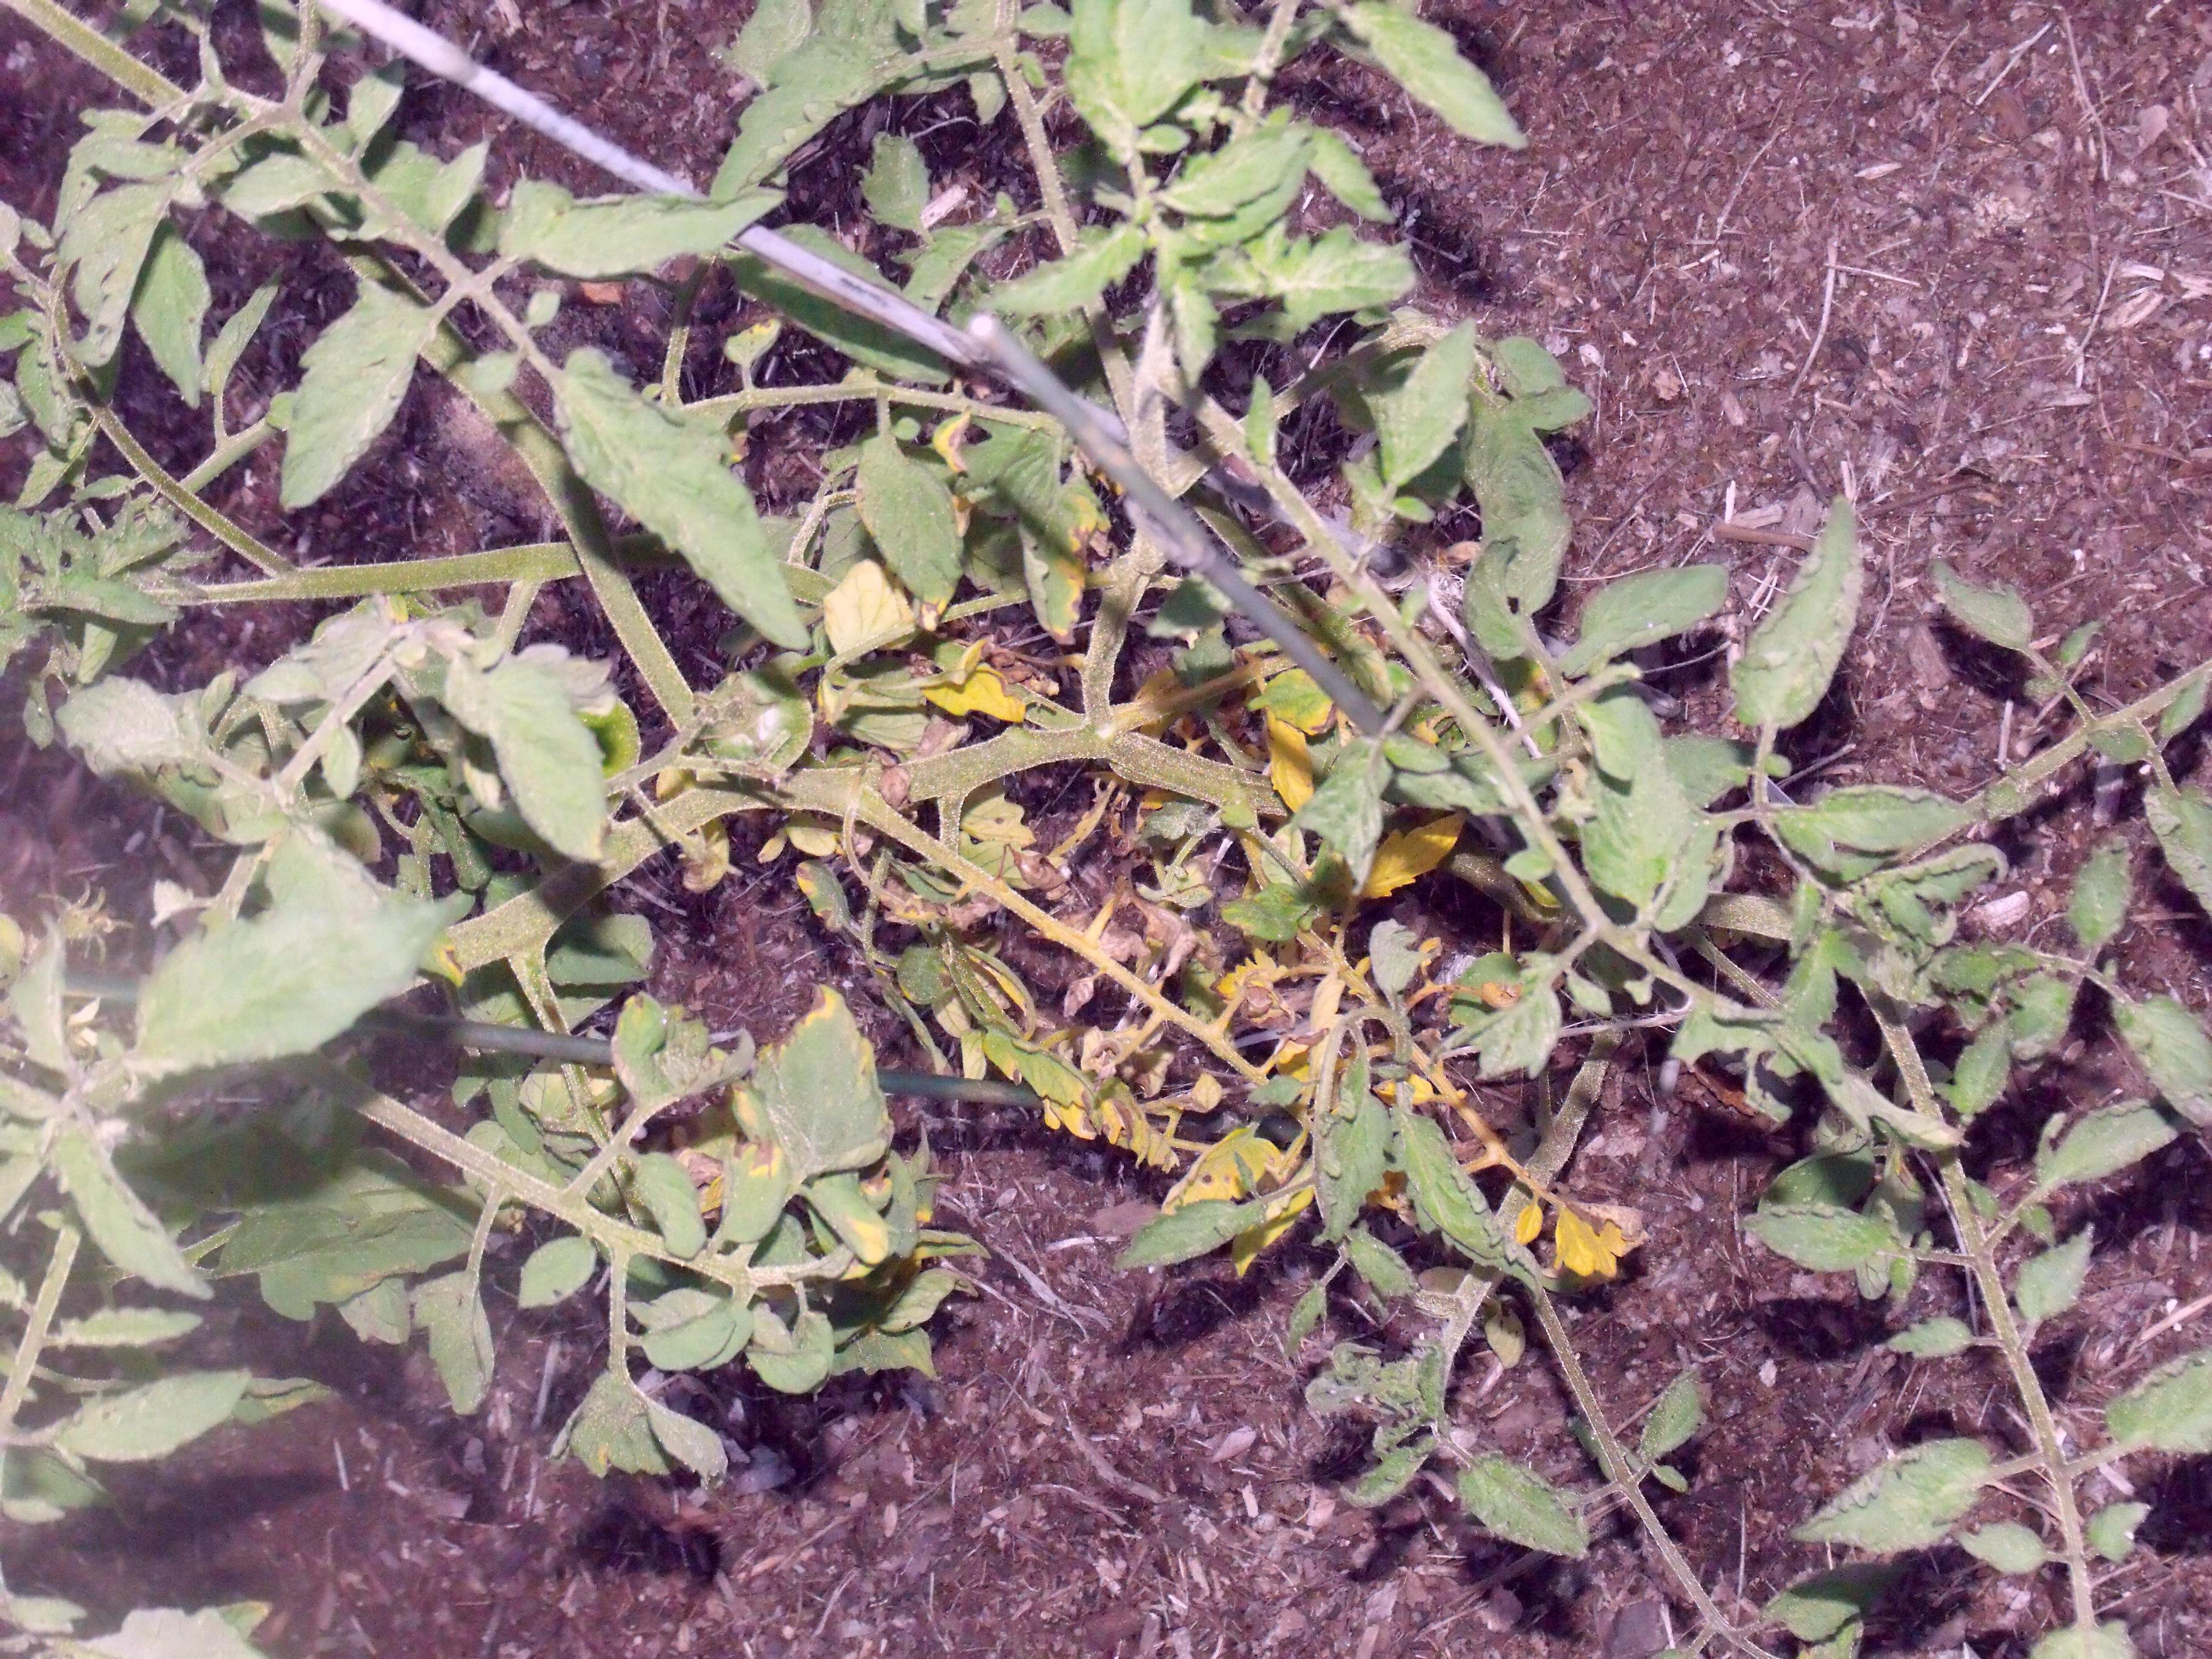Tomato leaf bacterial spot: (533, 342, 796, 653), (246, 251, 418, 523), (475, 155, 803, 296), (448, 619, 622, 875), (965, 415, 1137, 653), (719, 990, 916, 1195), (1150, 204, 1435, 340), (1318, 324, 1514, 521), (1527, 549, 1745, 709), (1374, 1060, 1517, 1295), (846, 425, 1001, 640), (608, 950, 737, 1152)
